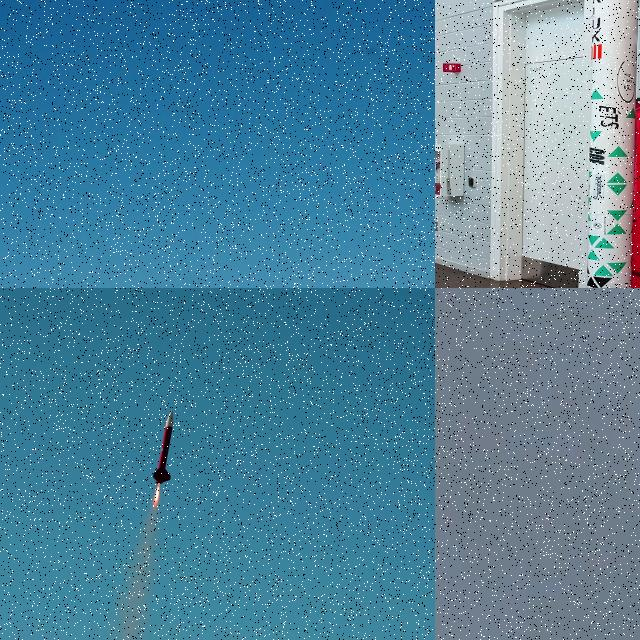Rocket: (586, 0, 639, 288), (152, 409, 174, 484)
